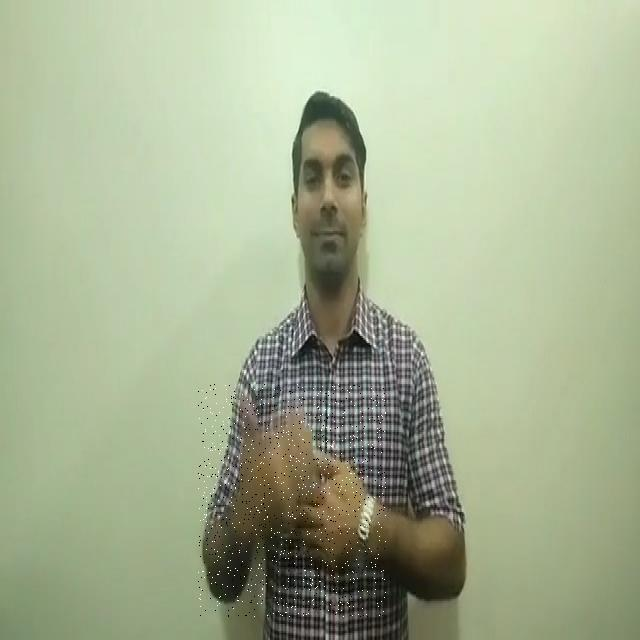bread: (198, 384, 386, 617)
